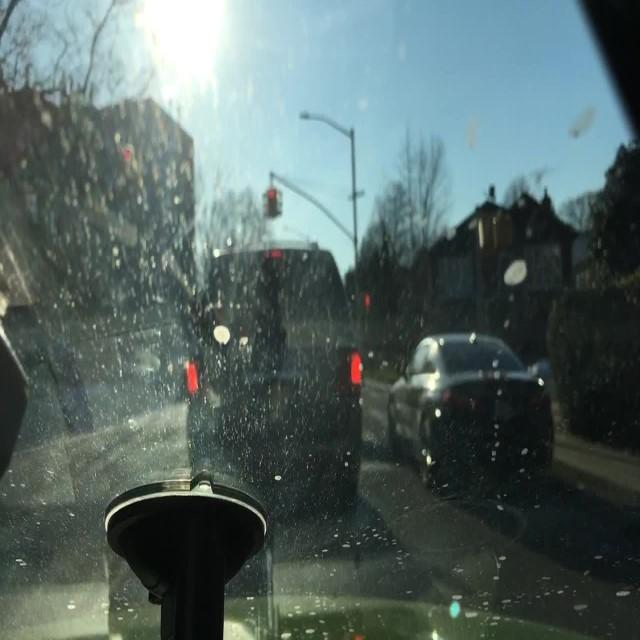normal: (166, 210, 570, 565)
